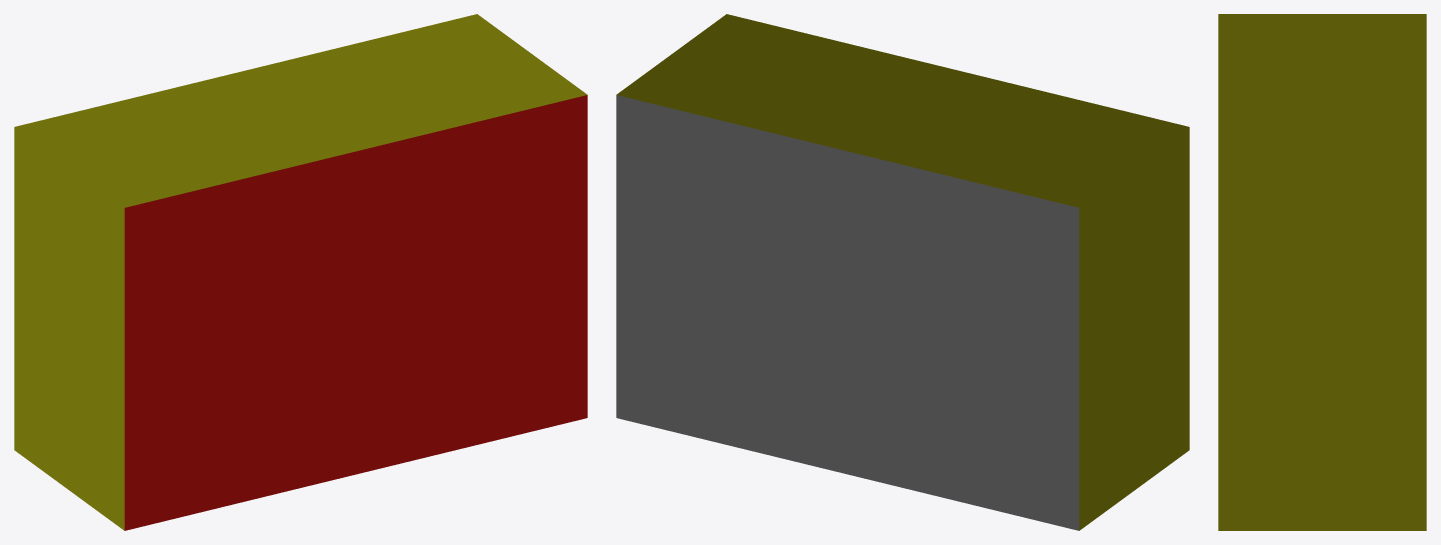
The model's file is idf.obj.
3 views of the same model, side by side, from view 1: azimuth 30°, elevation 25°; view 2: azimuth 150°, elevation 25°; view 3: azimuth 270°, elevation 25° (orthographic). The views are drawn at different scales.
Bounding box in the file's own units: 15 × 10 × 6.2.
